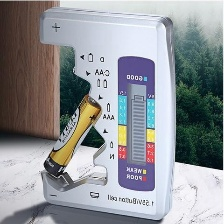battery: (40, 90, 108, 181)
